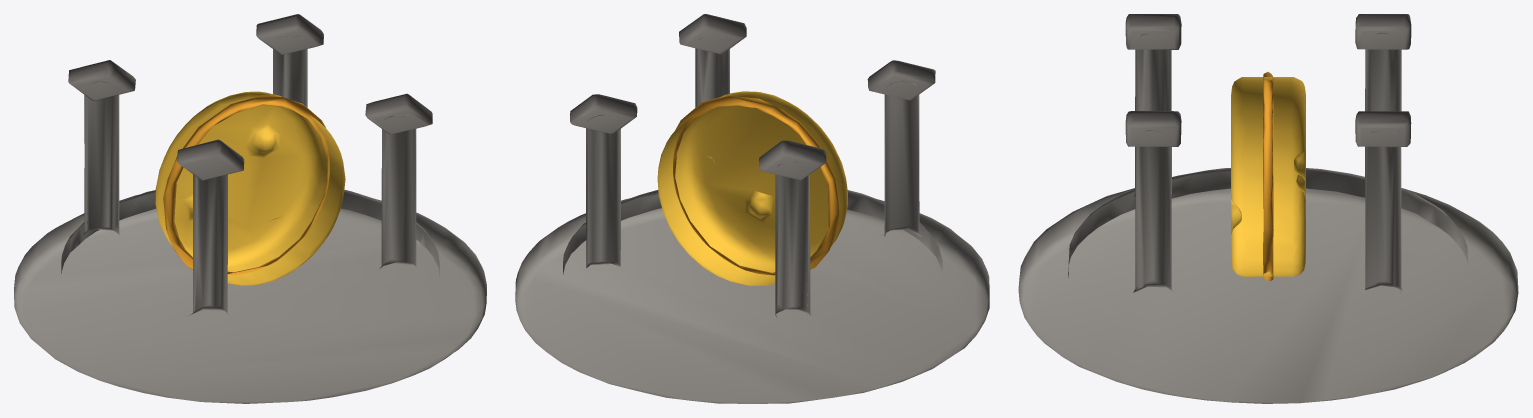
The model's file is prop_altar.glb.
The picture shows the model from 3 angles, left to right: view 1: azimuth 30°, elevation 25°; view 2: azimuth 150°, elevation 25°; view 3: azimuth 270°, elevation 25°; orthographic projection. The views are drawn at different scales.
Visible parts, largest first — view 1: body; view 2: body; view 3: body.
Part boxes in pixels (<box>): body: <box>14,14,486,403</box>; body: <box>515,14,989,403</box>; body: <box>1018,14,1518,403</box>.
Size of the model in its own units: 8 by 4.05 by 8.
1 material, 1 textured.
